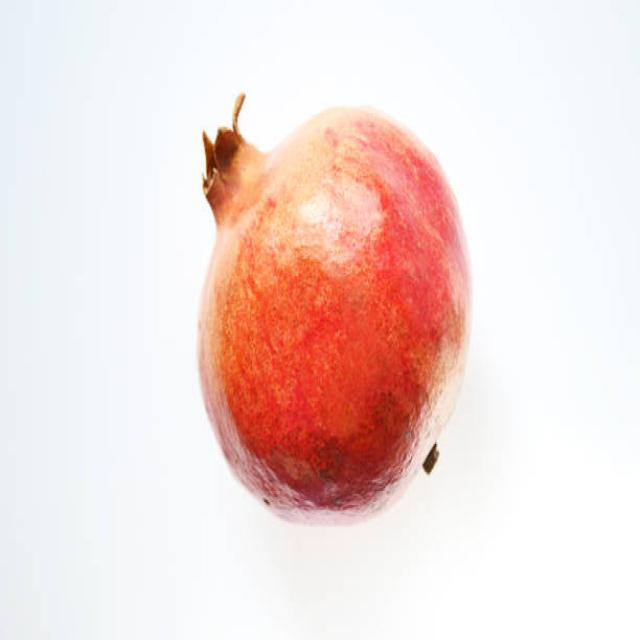Ripe: (196, 82, 476, 528)
